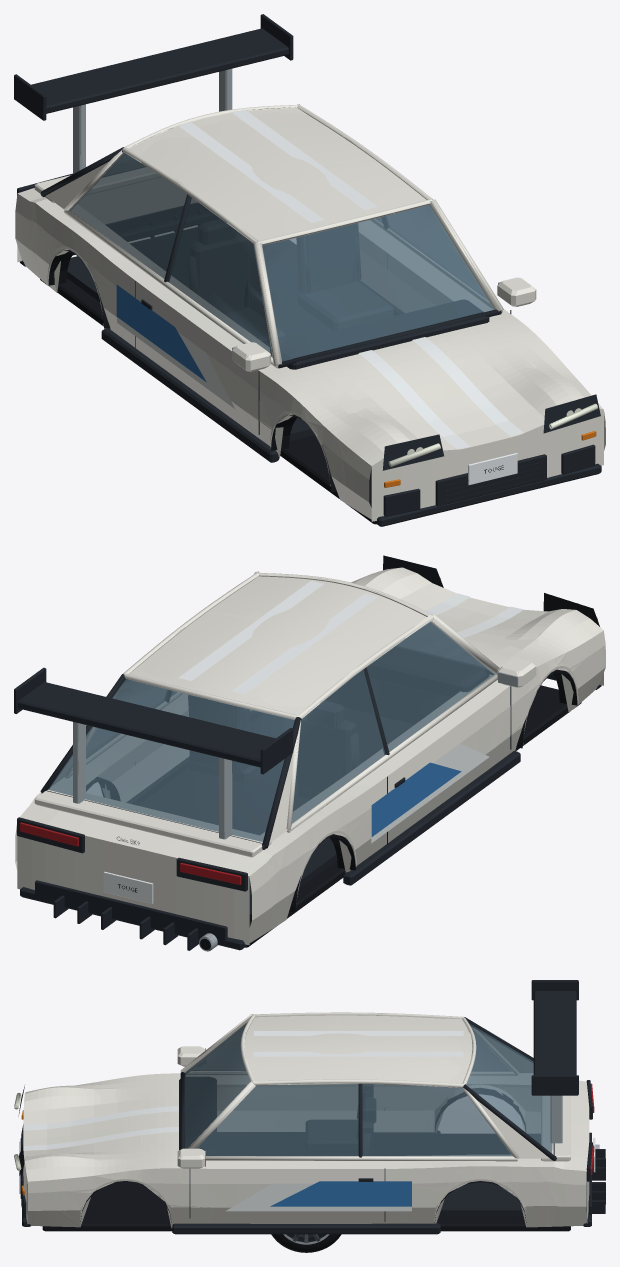
3 renders of one model, top to bottom at view 1: azimuth 30°, elevation 25°; view 2: azimuth 150°, elevation 25°; view 3: azimuth 270°, elevation 25°, orthographic. The views are drawn at different scales.
Parts seen in each view (by area): view 1: LOD0_cabin, LOD0_body, LOD0_glass, LOD1_glass, LOD1_body, LOD0_hood, LOD1_cabin, LOD1_hood, LOD1_spoiler_gt, LOD0_spoiler_gt, LOD0_vinyl_twin, LOD0_vinyl_apex (+1 smaller); view 2: LOD0_body, LOD0_cabin, LOD0_glass, LOD1_glass, LOD1_body, LOD1_cabin, LOD1_spoiler_gt, LOD0_spoiler_gt, LOD0_vinyl_apex, LOD0_hood, LOD1_hood, LOD1_spoiler_stock (+3 smaller); view 3: LOD0_cabin, LOD0_body, LOD0_glass, LOD1_glass, LOD1_body, LOD0_hood, LOD1_cabin, LOD0_vinyl_apex, LOD1_hood, LOD1_spoiler_gt, LOD0_vinyl_twin, LOD0_spoiler_gt (+4 smaller).
Boxes of the visible parts, x1,y1,x2,y2 form: LOD0_cabin: (40, 104, 503, 440); LOD0_body: (15, 173, 605, 526); LOD0_glass: (70, 153, 494, 360); LOD1_glass: (70, 153, 493, 361); LOD1_body: (15, 177, 605, 526); LOD0_hood: (282, 318, 583, 452); LOD1_cabin: (41, 105, 500, 440); LOD1_hood: (324, 335, 563, 450); LOD1_spoiler_gt: (14, 28, 293, 170); LOD0_spoiler_gt: (14, 14, 293, 173); LOD0_vinyl_twin: (179, 109, 508, 447); LOD0_vinyl_apex: (116, 284, 234, 408); LOD0_body: (15, 555, 605, 951); LOD0_cabin: (40, 571, 499, 921); LOD0_glass: (49, 622, 494, 841); LOD1_glass: (48, 622, 494, 841); LOD1_body: (15, 575, 605, 951); LOD1_cabin: (41, 572, 498, 920); LOD1_spoiler_gt: (16, 667, 275, 839); LOD0_spoiler_gt: (14, 668, 293, 839); LOD0_vinyl_apex: (371, 743, 489, 843); LOD0_hood: (354, 567, 589, 676); LOD1_hood: (370, 581, 547, 658); LOD1_spoiler_stock: (34, 785, 271, 857); LOD0_cabin: (179, 1012, 556, 1215); LOD0_body: (14, 1046, 605, 1234); LOD0_glass: (184, 1022, 552, 1156); LOD1_glass: (184, 1023, 551, 1156); LOD1_body: (15, 1046, 599, 1233); LOD0_hood: (23, 1079, 179, 1170); LOD1_cabin: (180, 1013, 555, 1215); LOD0_vinyl_apex: (226, 1181, 411, 1211); LOD1_hood: (23, 1087, 171, 1159); LOD1_spoiler_gt: (532, 980, 578, 1142); LOD0_vinyl_twin: (25, 1031, 463, 1150); LOD0_spoiler_gt: (531, 980, 578, 1143).
Bounding box in the file's own units: 1.96 × 1.8 × 4.37.
